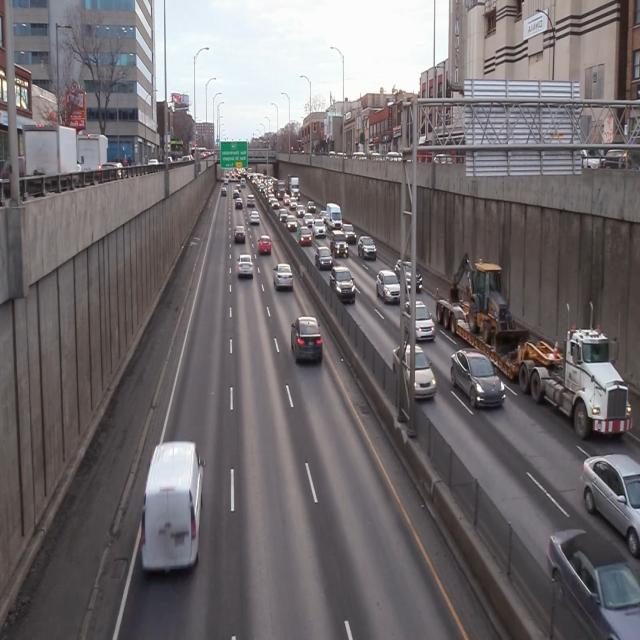Vehicle: (437, 251, 630, 438), (143, 439, 202, 574), (448, 349, 505, 419), (391, 346, 437, 401), (290, 313, 323, 369), (400, 300, 436, 344), (332, 268, 355, 302), (377, 271, 400, 303), (274, 263, 292, 292), (236, 253, 254, 280), (331, 232, 349, 258), (359, 236, 376, 260), (315, 248, 332, 268), (258, 235, 272, 255), (234, 225, 246, 246), (250, 208, 260, 224)
